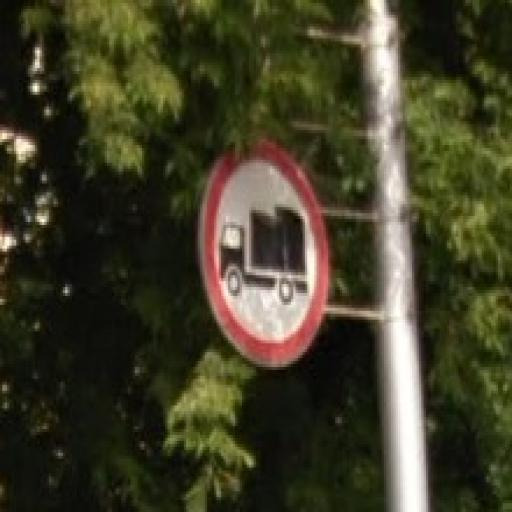traffic_sign: (199, 137, 331, 368)
